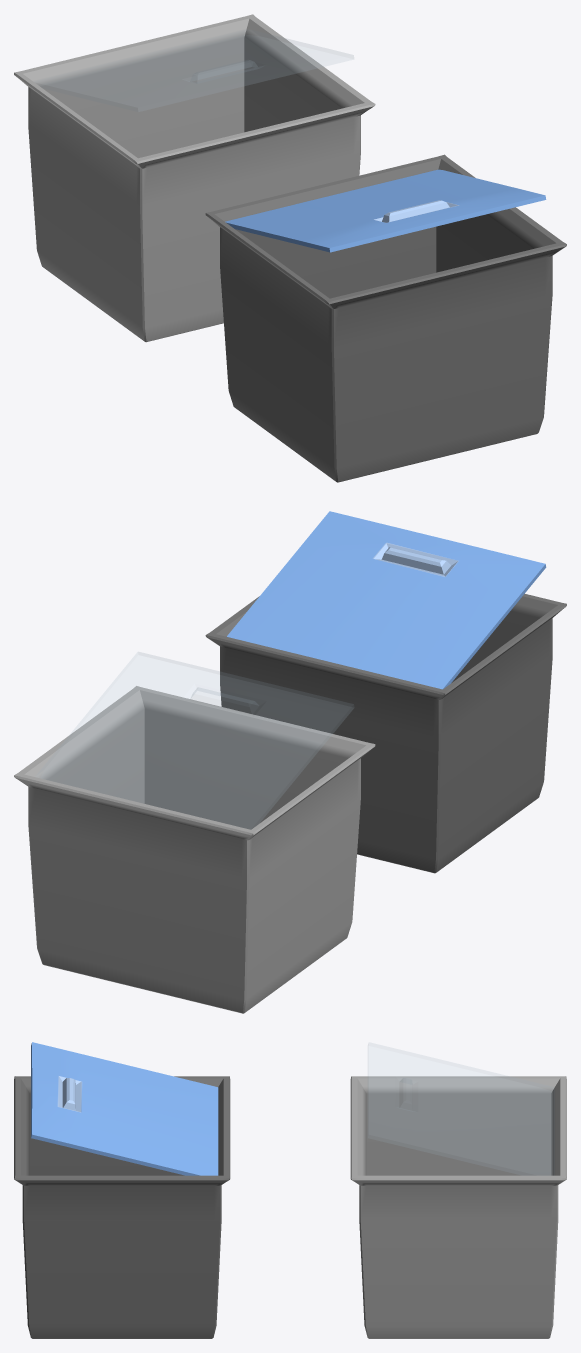
Rendered from FoodContainerGroup.fbx.
3 renders of one model, top to bottom at view 1: azimuth 30°, elevation 25°; view 2: azimuth 150°, elevation 25°; view 3: azimuth 270°, elevation 25°, orthographic. The views are drawn at different scales.
Parts seen in each view (by area): view 1: pFoodContainerCopy, pFoodContainer; view 2: pFoodContainer, pFoodContainerCopy; view 3: pFoodContainerCopy, pFoodContainer.
Part boxes in pixels (bbox=[...]): pFoodContainerCopy: bbox=[205, 154, 566, 482]; pFoodContainer: bbox=[14, 14, 375, 342]; pFoodContainer: bbox=[14, 652, 375, 1013]; pFoodContainerCopy: bbox=[205, 511, 566, 873]; pFoodContainerCopy: bbox=[14, 1042, 230, 1338]; pFoodContainer: bbox=[350, 1043, 566, 1338].
Size of the model in its own units: 0.4887 by 0.4608 by 1.11.
